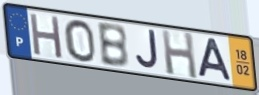A: (196, 36, 234, 84)
B: (95, 22, 131, 70)
H: (159, 28, 199, 82), (28, 11, 65, 61)
J: (134, 28, 161, 72)
O: (62, 18, 98, 64)
